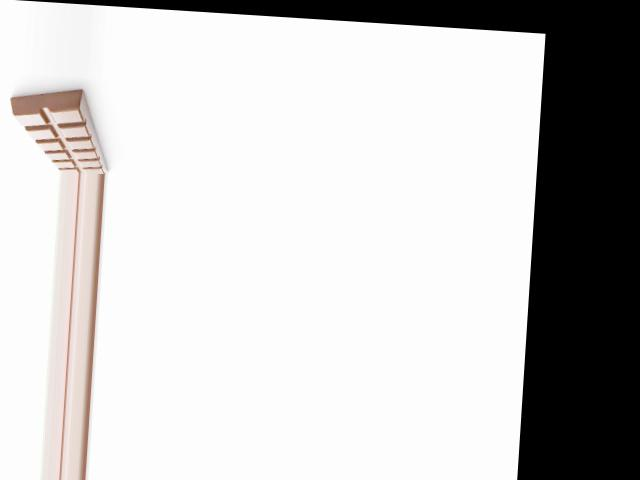chocolate: (5, 82, 119, 173)
